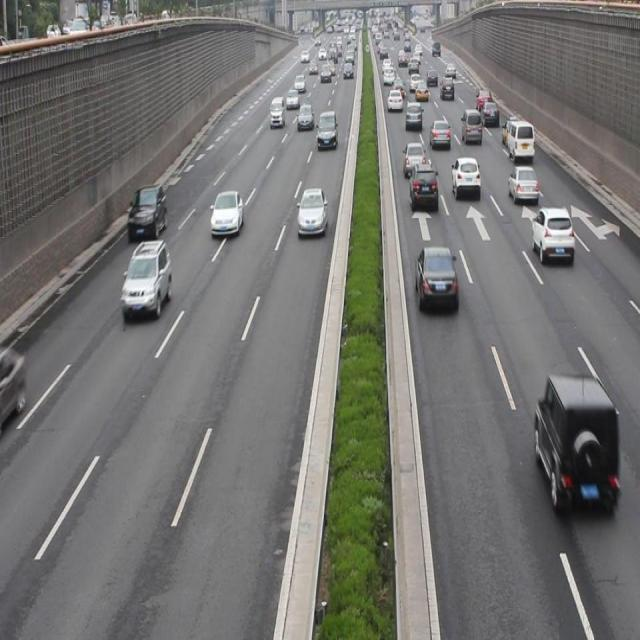car: (534, 374, 618, 508), (120, 238, 172, 316), (414, 243, 457, 313), (530, 206, 573, 265), (127, 185, 166, 243), (1, 346, 26, 428), (210, 188, 243, 238), (296, 186, 326, 237), (409, 160, 438, 212), (506, 164, 538, 205), (450, 156, 479, 200), (403, 140, 426, 178), (428, 117, 450, 152), (500, 115, 522, 145), (404, 100, 423, 132), (481, 100, 498, 128), (296, 102, 313, 130)
truck: (506, 119, 533, 160), (316, 109, 336, 151), (461, 109, 481, 145), (268, 96, 285, 128)
